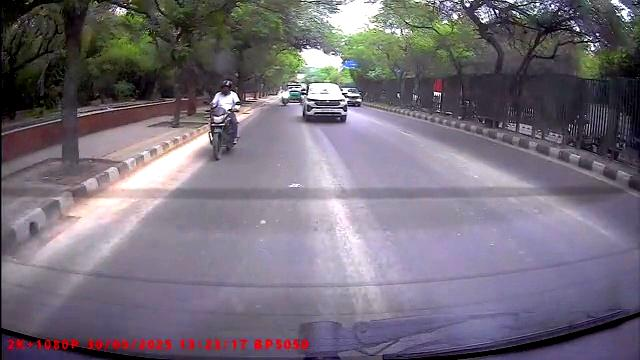motorcycle_with_helmet: (206, 78, 240, 162)
